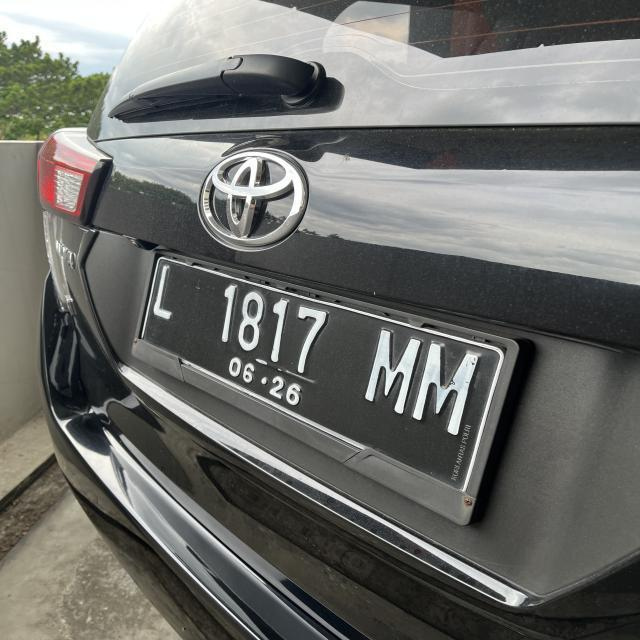1: (218, 278, 235, 344), (270, 295, 286, 363)
7: (298, 301, 323, 382)
8: (238, 288, 264, 352)
L: (154, 262, 176, 318)
M: (420, 338, 473, 434), (364, 324, 416, 416)
